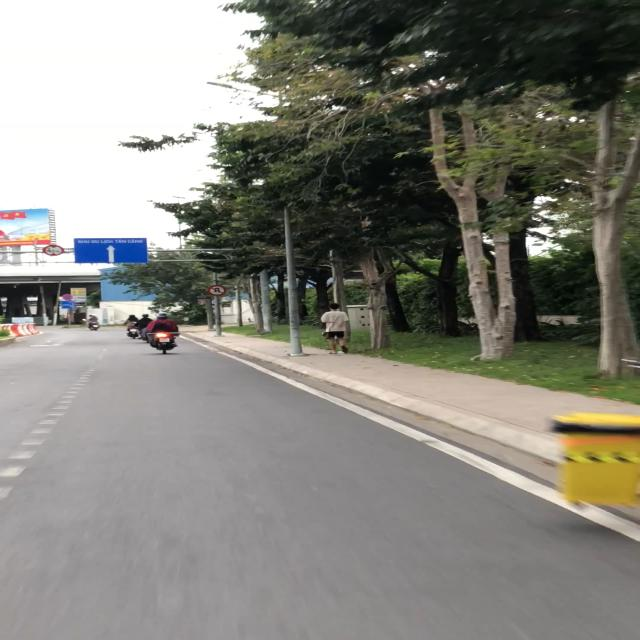Bien bao cam quay dau xe: (205, 283, 232, 297)
Bien bao han che chieu cao: (42, 243, 66, 257)
